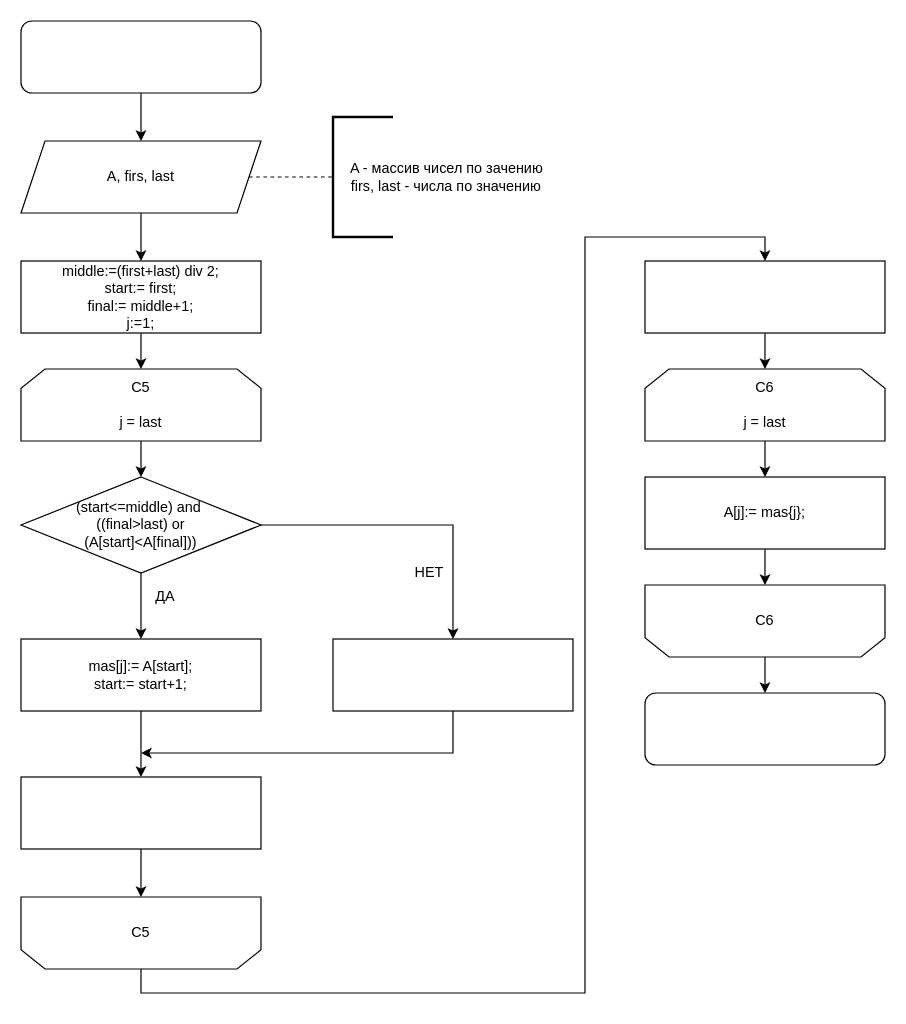
This 906x1024 diagram has some shape labels left out. The shapes that lost their labels are listed below. From the top down, each one's centre as x and y in pixels, then its label:
pixel 140 56: merge НАЧАЛО
pixel 764 296: j:=first;
pixel 452 674: mas[j]:= A[final]; final:= final+1;
pixel 764 728: КОНЕЦ merge
pixel 140 812: j:= j+1;
